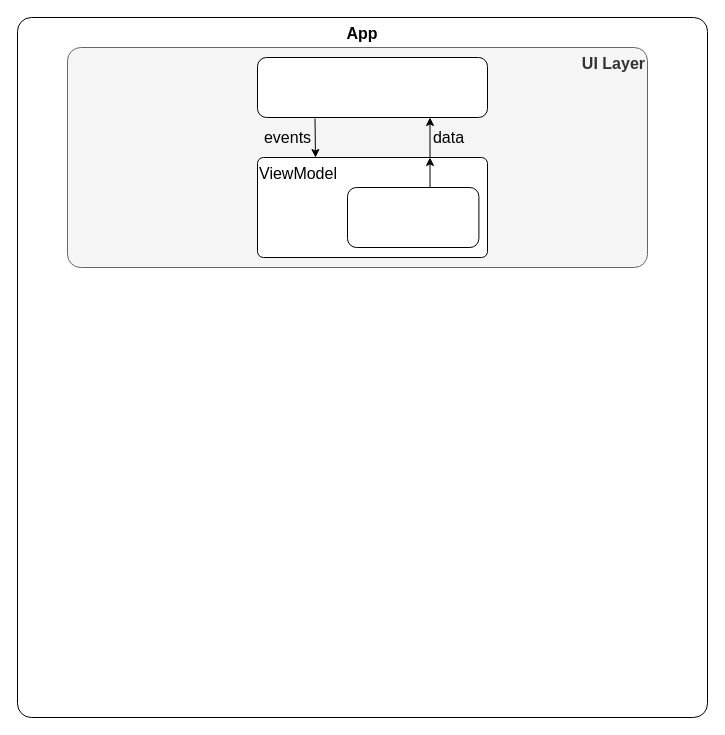
The diagram is 725 pixels wide and 735 high, and some of its shapes have lost their labels. The shapes that lost their labels are listed below. From the top down, each one's centre as x and y in pixels, then its label:
At pixel 372 87: "Views (Activity/Fragment)".
At pixel 412 217: "UiState".
